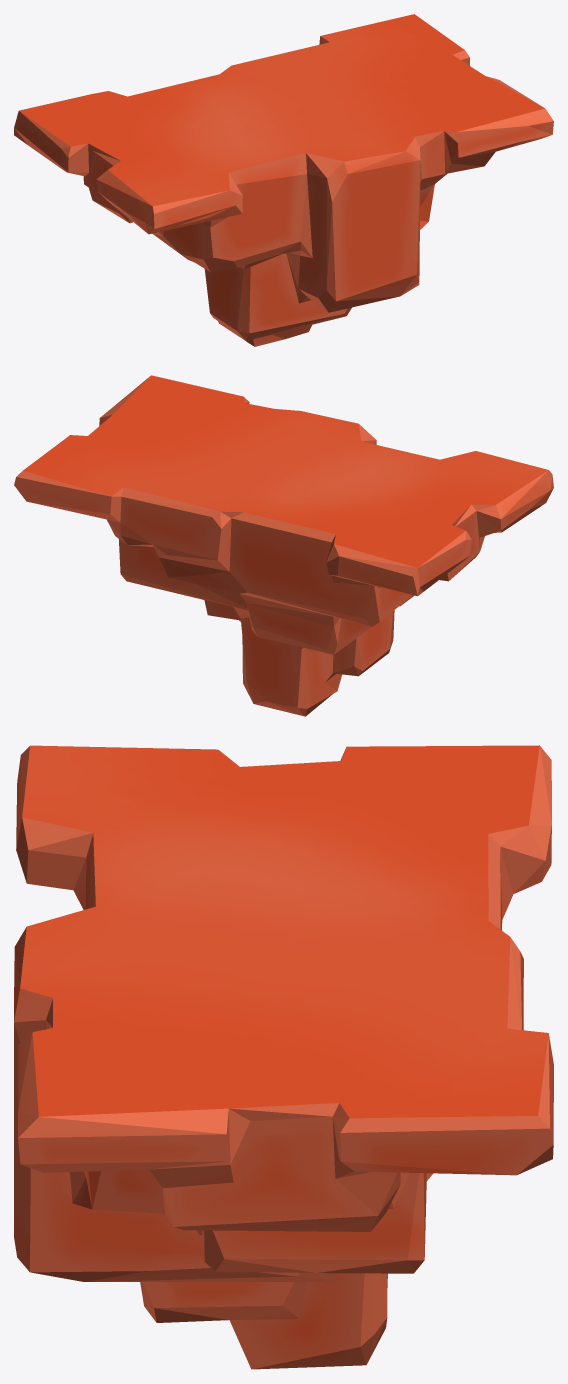
File: Platform_3_5.fbx
The picture shows the model from 3 angles, top to bottom: view 1: azimuth 30°, elevation 25°; view 2: azimuth 150°, elevation 25°; view 3: azimuth 270°, elevation 25°; orthographic projection. The views are drawn at different scales.
Visible parts, largest first — view 1: Cube.051; view 2: Cube.051; view 3: Cube.051.
Boxes of the visible parts, x1,y1,x2,y2 form: Cube.051: (14, 14, 553, 346); Cube.051: (14, 375, 553, 716); Cube.051: (14, 745, 553, 1369).
Bounding box in the file's own units: 500 × 261 × 301.
